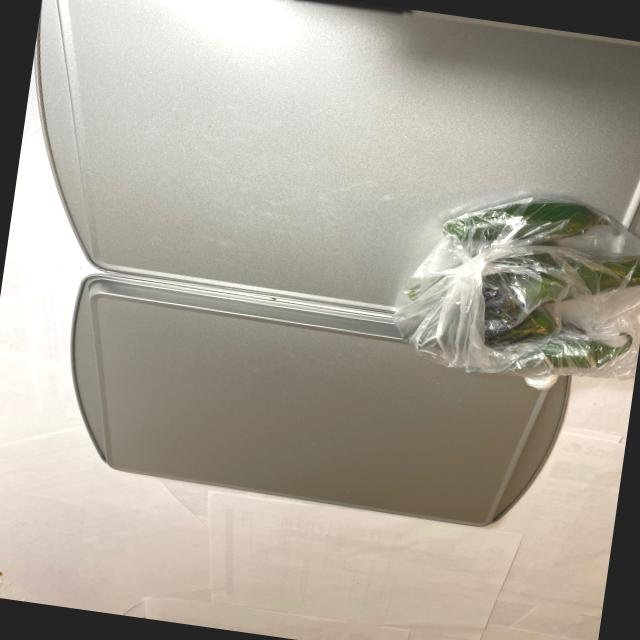chilli: (390, 184, 640, 384)
